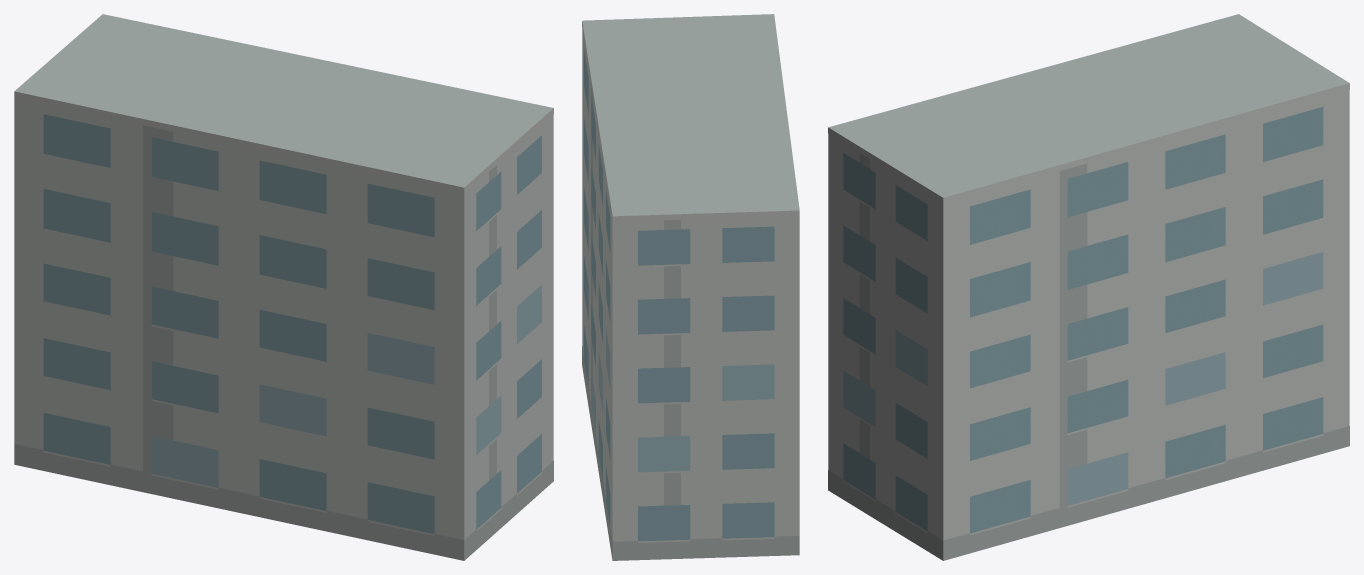
File: survey-upis-32881725.glb
3 renders of one model, left to right at view 1: azimuth 30°, elevation 25°; view 2: azimuth 150°, elevation 25°; view 3: azimuth 270°, elevation 25°, orthographic. The views are drawn at different scales.
Parts seen in each view (by area): view 1: survey-upis-32881725.tmp; view 2: survey-upis-32881725.tmp; view 3: survey-upis-32881725.tmp.
Boxes of the visible parts, box(x1,y1,x2,y2) form: survey-upis-32881725.tmp: box(14, 14, 553, 560); survey-upis-32881725.tmp: box(582, 14, 799, 560); survey-upis-32881725.tmp: box(828, 14, 1349, 560).
Bounding box in the file's own units: 15.82 × 14.55 × 18.96.
